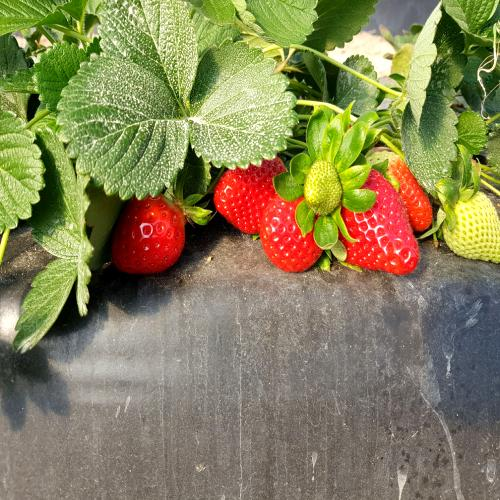ripe: (332, 153, 423, 284), (107, 179, 188, 287), (201, 148, 292, 235), (259, 187, 328, 283)
